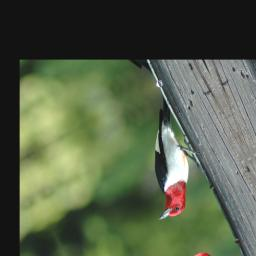Woodpecker: (111, 87, 221, 226)
